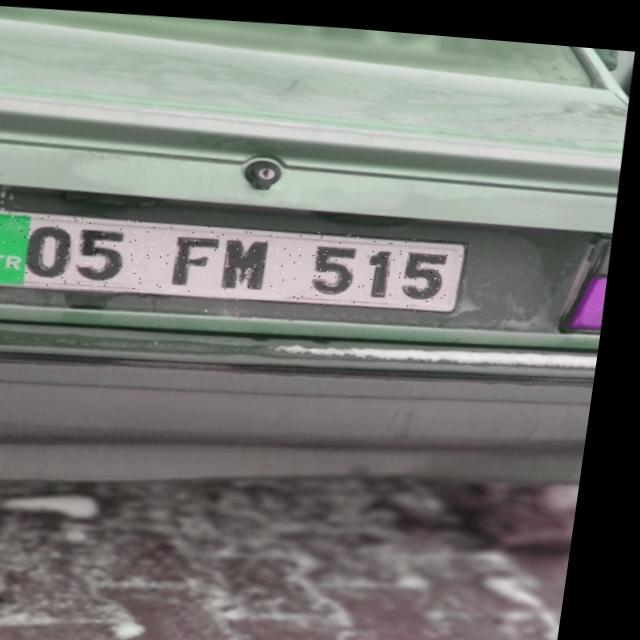license_plate: (0, 201, 476, 313)
